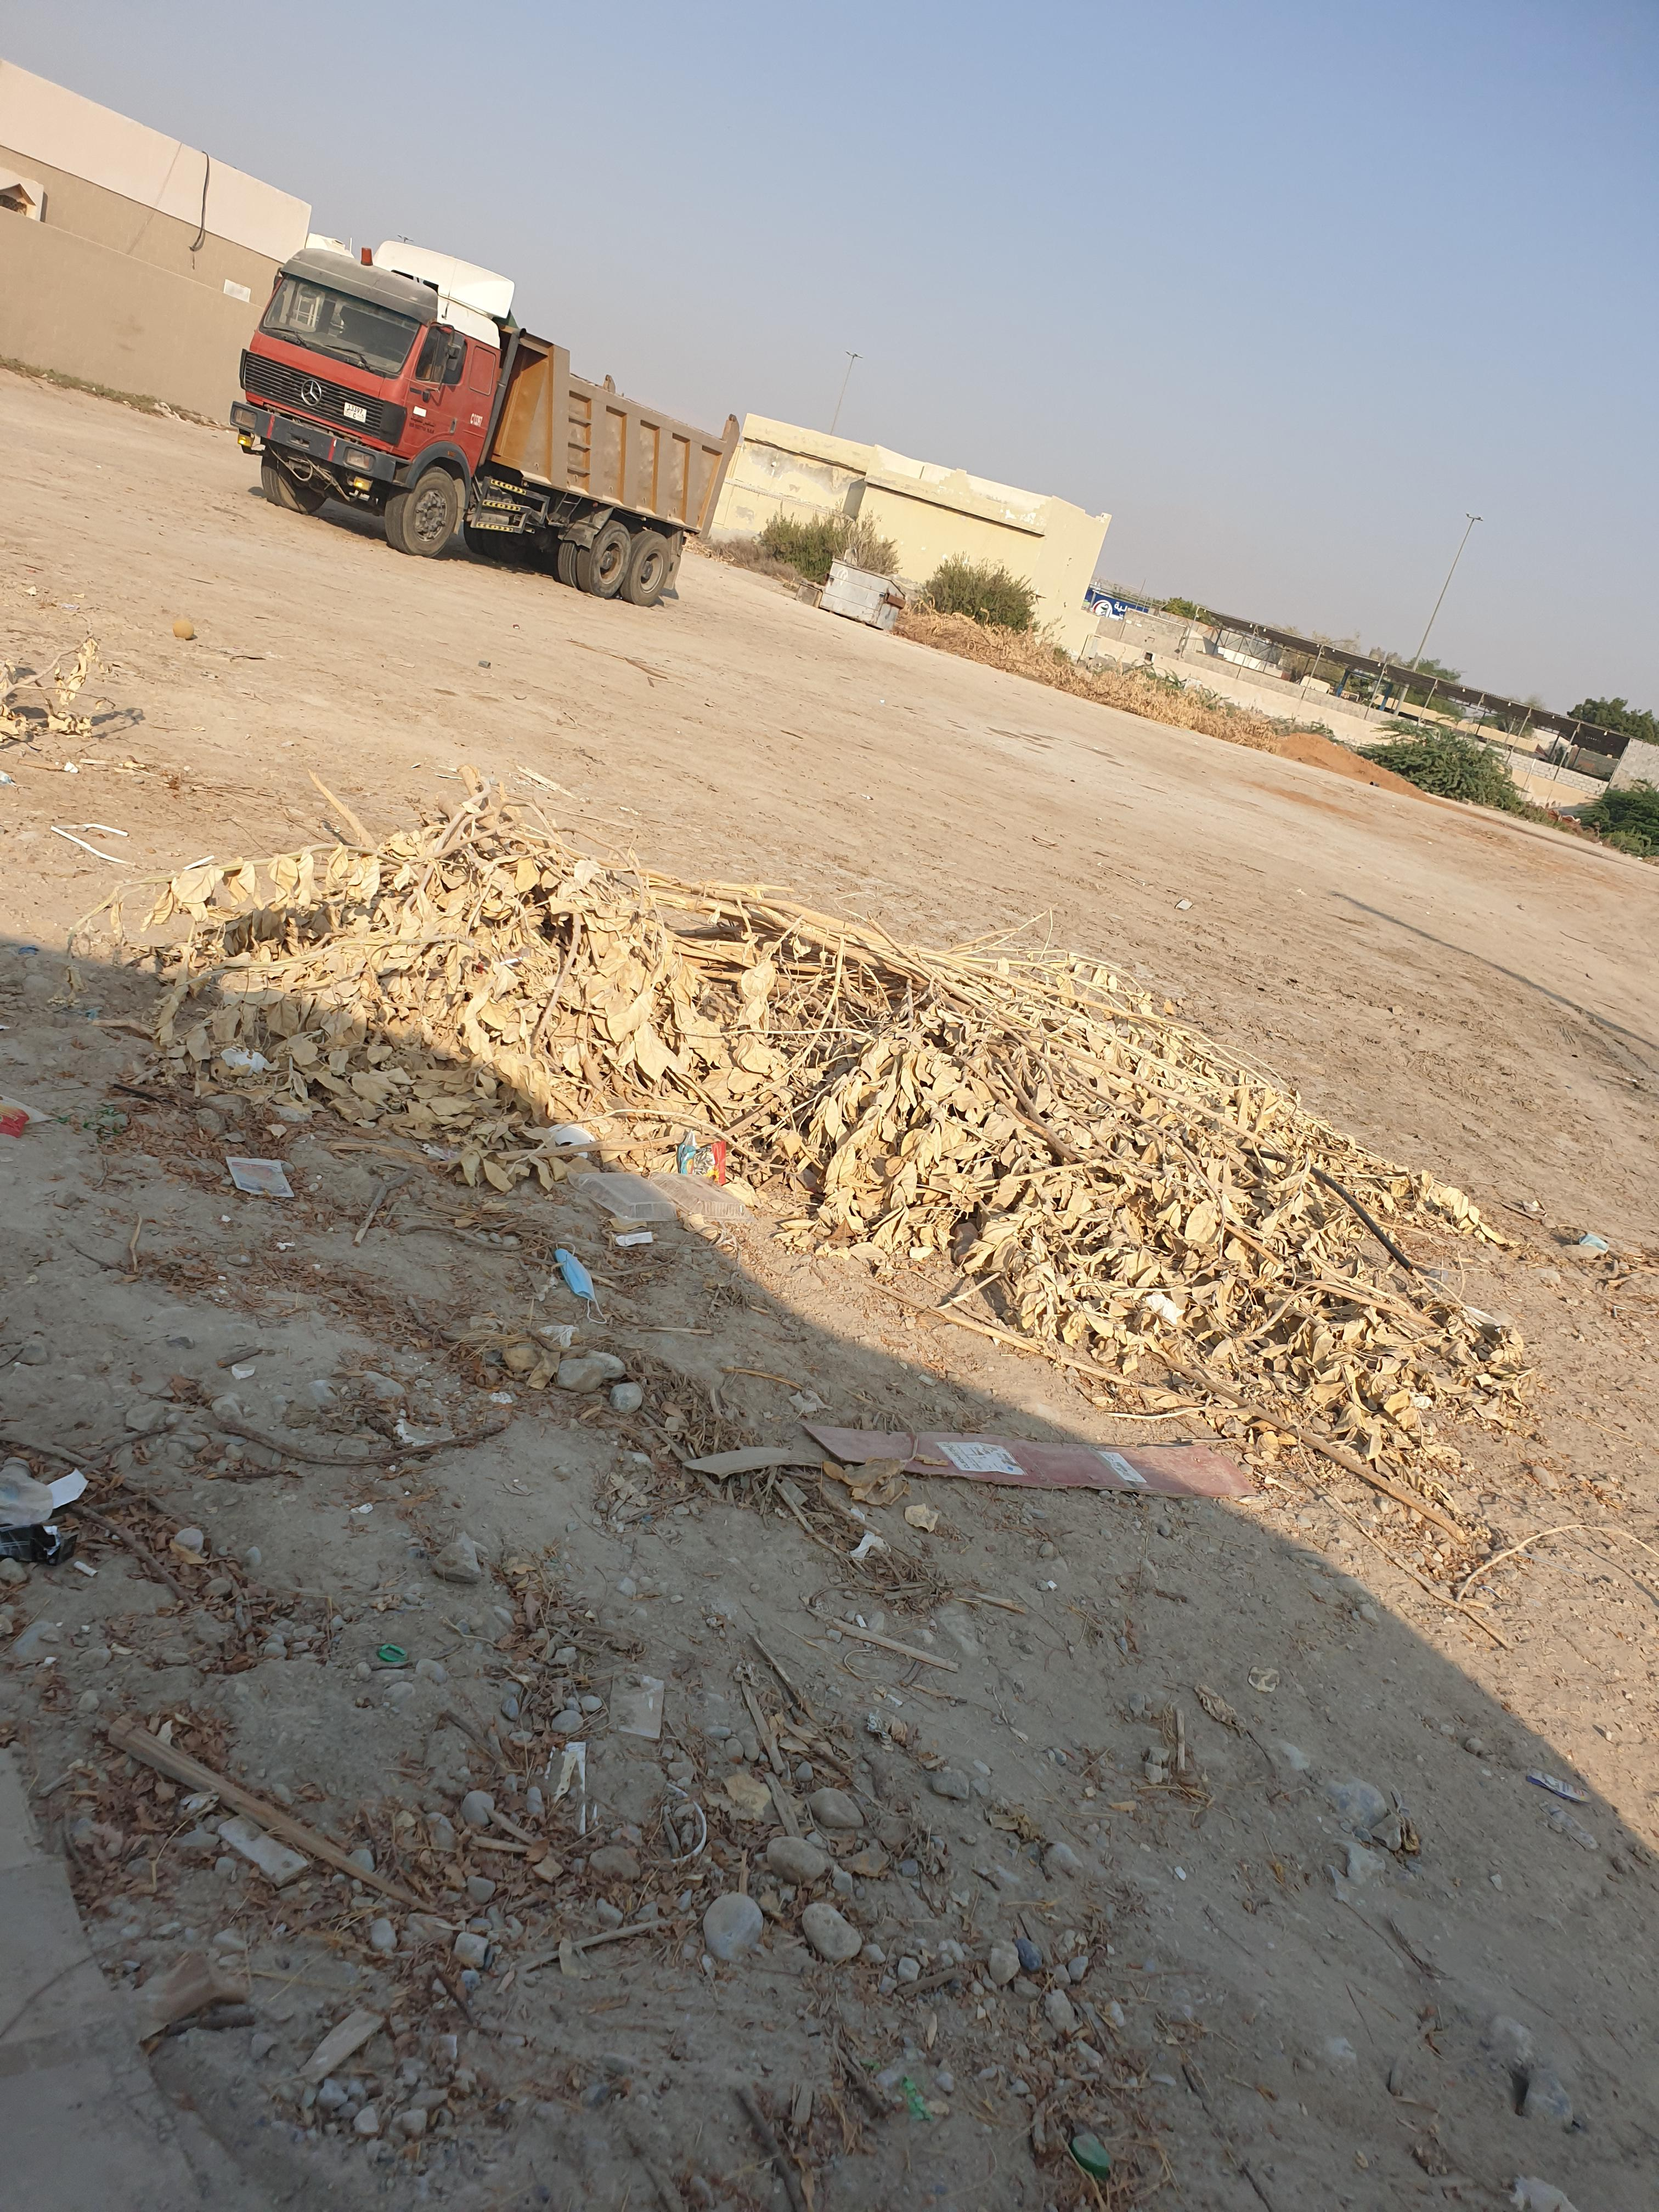fallen_trees: (242, 777, 1574, 1521), (159, 730, 1202, 1289), (816, 970, 1579, 1665), (166, 833, 960, 1456), (460, 787, 1143, 1242), (730, 1076, 1459, 1409), (91, 878, 746, 1223), (1033, 1021, 1474, 1470), (7, 603, 134, 787)
